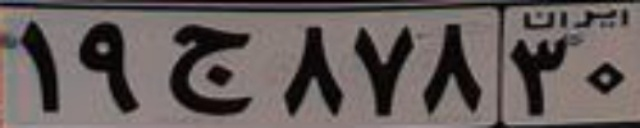0: (584, 60, 625, 94)
1: (13, 19, 60, 112)
3: (506, 36, 566, 116)
7: (352, 24, 415, 117)
8: (280, 24, 347, 118), (423, 22, 485, 114)
9: (77, 20, 139, 113)
jim: (165, 23, 252, 113)
